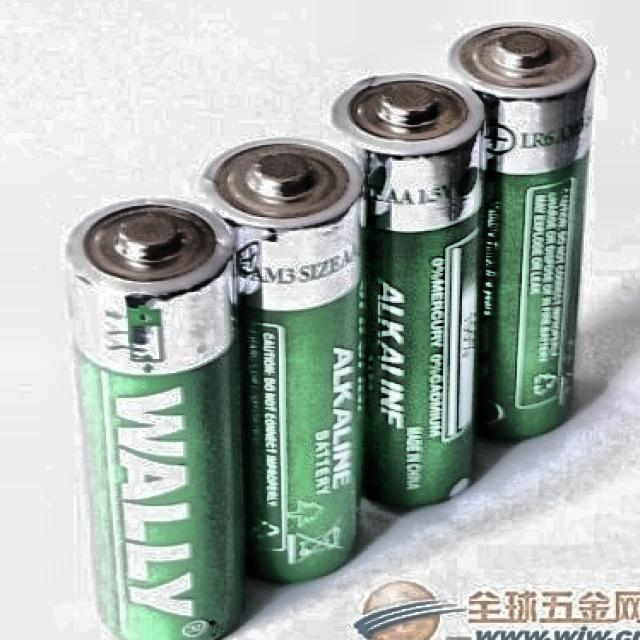Non-Valuable Waste - Batteries: (72, 200, 243, 640), (204, 140, 362, 582), (334, 75, 484, 507), (451, 23, 595, 438)
